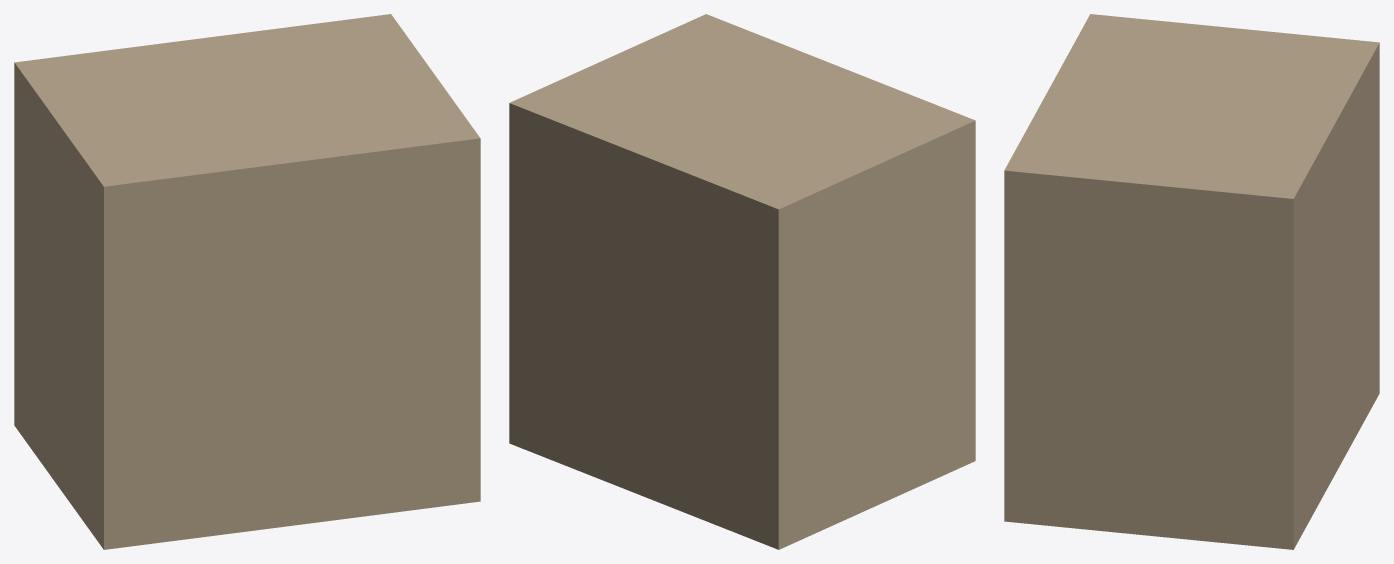
File: bld_99615917.dae
3 views of the same model, side by side, from view 1: azimuth 30°, elevation 25°; view 2: azimuth 150°, elevation 25°; view 3: azimuth 270°, elevation 25° (orthographic). The views are drawn at different scales.
Parts seen in each view (by area): view 1: bld_99615917; view 2: bld_99615917; view 3: bld_99615917.
Boxes of the visible parts, x1,y1,x2,y2 form: bld_99615917: (14,14,480,549); bld_99615917: (509,14,975,549); bld_99615917: (1004,14,1379,549).
Size of the model in its own units: 9.05 by 7.76 by 8.
